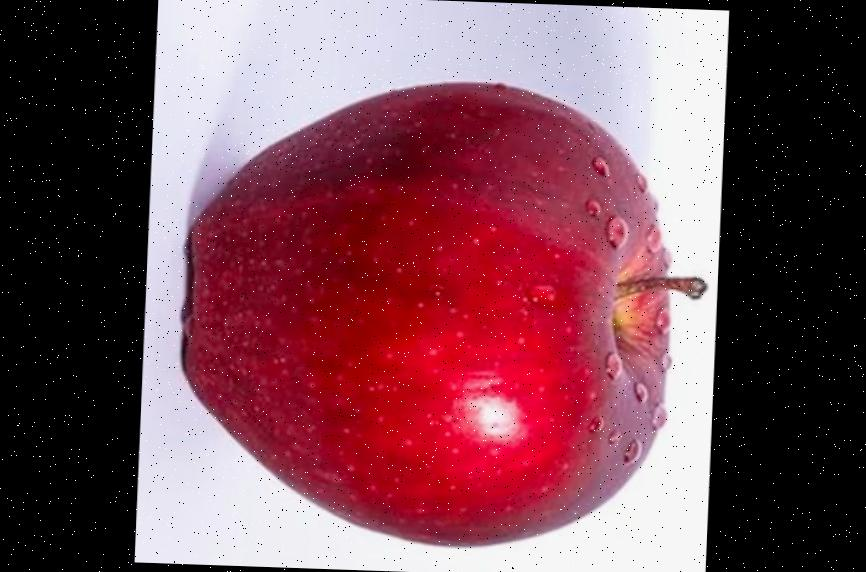HEALTHY: (159, 44, 707, 564)
